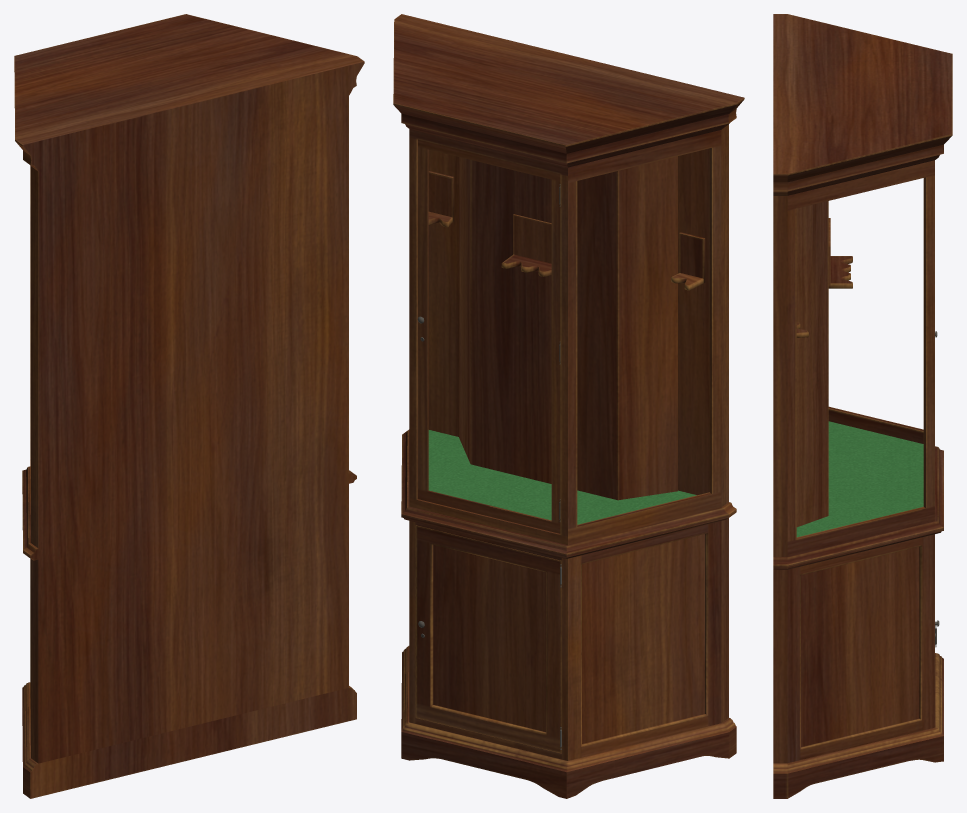
File: cabinet2.glb
3 renders of one model, left to right at view 1: azimuth 30°, elevation 25°; view 2: azimuth 150°, elevation 25°; view 3: azimuth 270°, elevation 25°, orthographic. The views are drawn at different scales.
Visible parts, largest first — view 1: gun_cabinet; view 2: gun_cabinet; view 3: gun_cabinet.
Part boxes in pixels (box(x1,y1,x2,y2)): gun_cabinet: box(14, 14, 364, 798); gun_cabinet: box(393, 14, 744, 798); gun_cabinet: box(773, 14, 952, 798).
Bounding box in the file's own units: 0.4851 × 0.8885 × 0.2295.
1 material, 1 textured.
